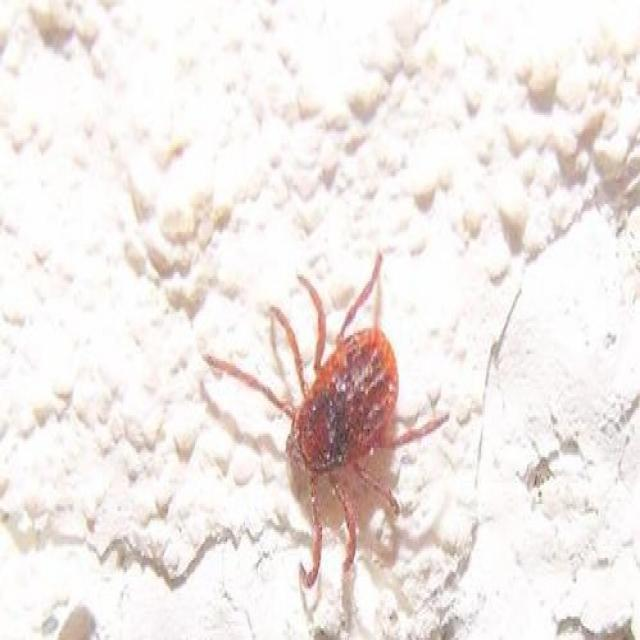Rhipicephalus Sanguineus-F: (203, 251, 449, 588)
